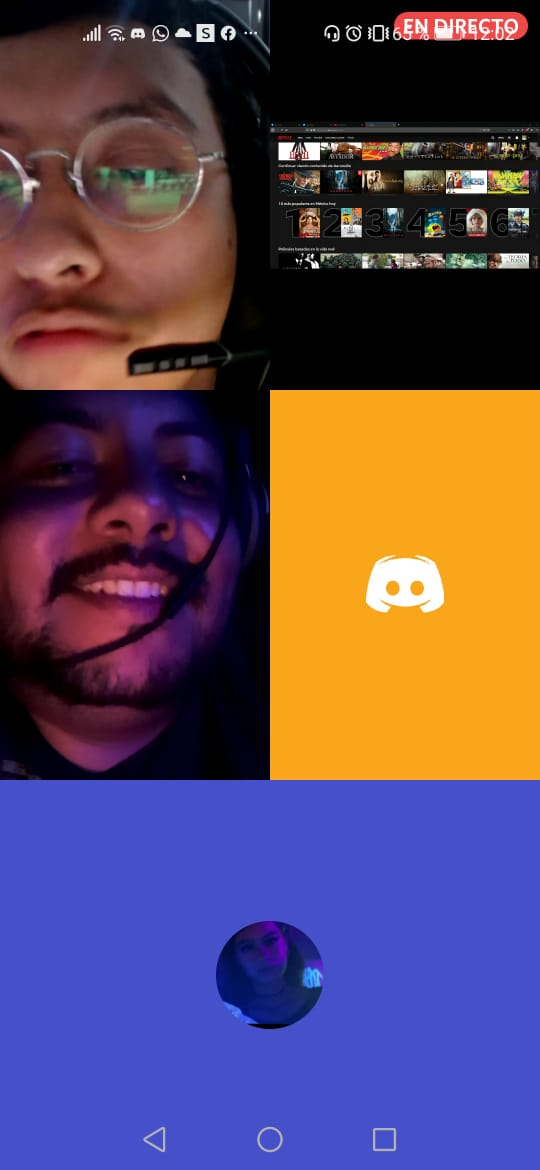Yoshi: (5, 394, 264, 748)
